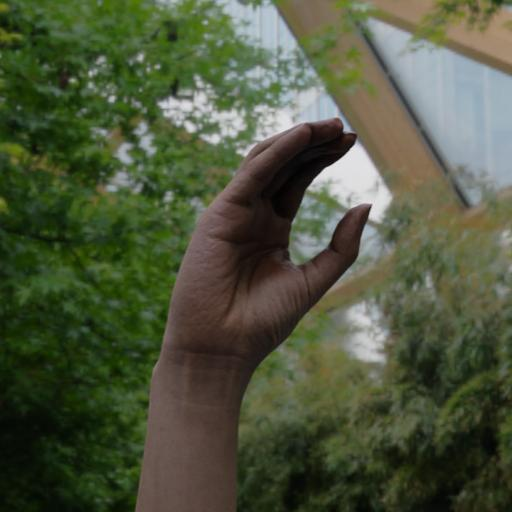C: (152, 110, 377, 367)
